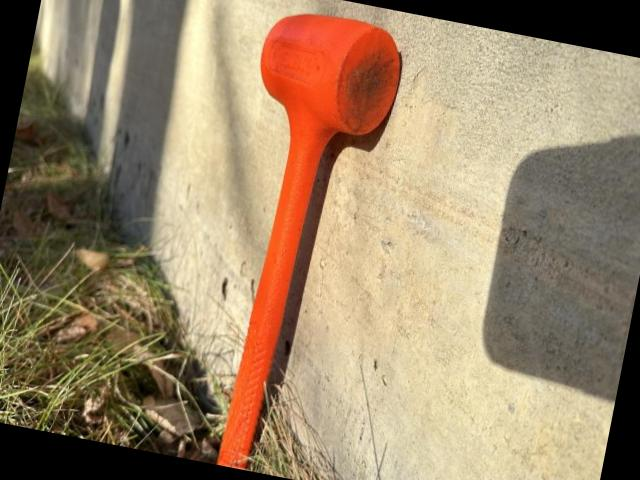hammer: (182, 4, 410, 480)
